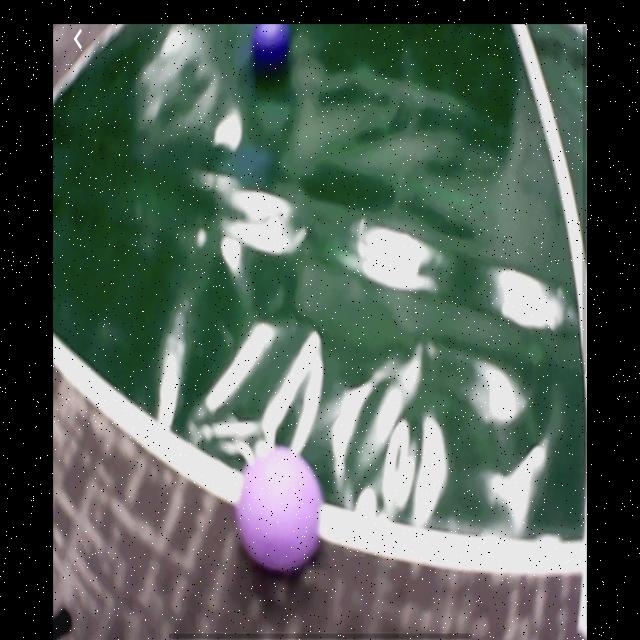ball: (239, 448, 323, 572), (251, 24, 292, 67)
